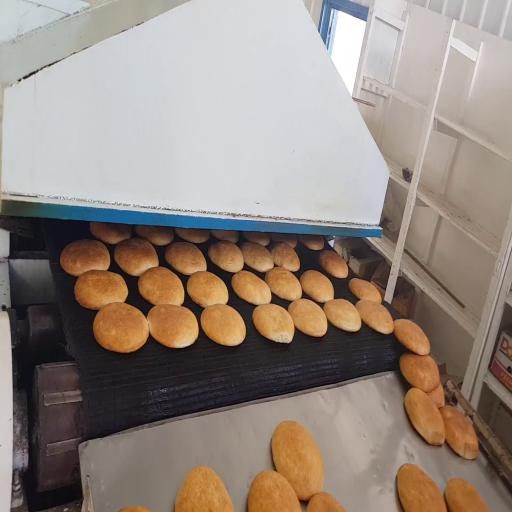bread: (271, 421, 323, 500), (93, 303, 148, 353), (175, 467, 234, 511), (404, 388, 445, 445), (397, 464, 446, 511), (147, 304, 198, 348), (74, 270, 128, 310), (248, 471, 301, 511), (439, 406, 478, 459), (201, 304, 245, 346), (60, 240, 110, 276), (138, 267, 184, 305), (114, 238, 158, 276), (253, 304, 294, 343), (400, 354, 439, 393), (288, 299, 327, 337), (187, 272, 228, 307), (445, 478, 488, 511), (232, 270, 271, 305), (165, 242, 206, 275), (394, 319, 430, 355), (265, 267, 302, 301), (356, 300, 393, 334), (324, 299, 361, 331), (208, 241, 243, 273), (300, 270, 334, 302), (240, 242, 273, 272), (90, 222, 131, 244), (270, 242, 299, 272), (319, 250, 348, 278), (349, 278, 381, 303), (135, 226, 173, 246), (307, 492, 346, 511), (175, 228, 209, 243), (428, 383, 445, 408), (271, 233, 297, 248), (243, 232, 270, 246), (299, 235, 324, 250), (211, 230, 238, 243), (120, 506, 150, 511)
